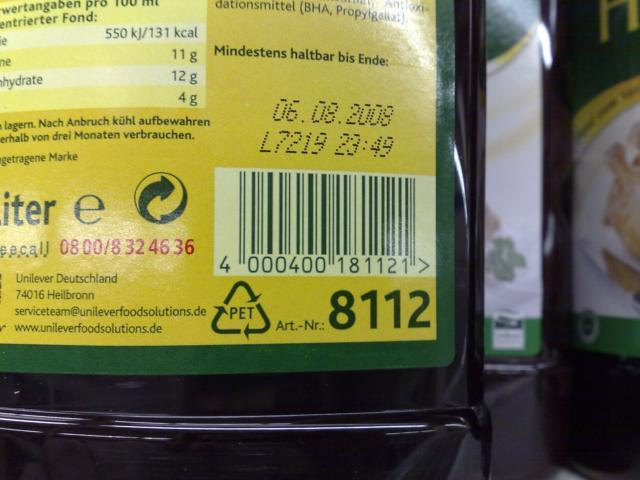Barcode: (213, 166, 435, 276)
